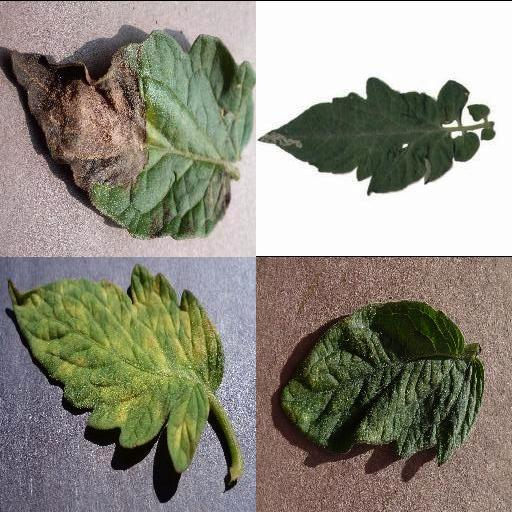Late Blight: (8, 28, 256, 240)
Leaf Miner: (257, 72, 456, 194)
Leaf Mold: (7, 264, 225, 472)
Spider Mites: (277, 300, 485, 464)
